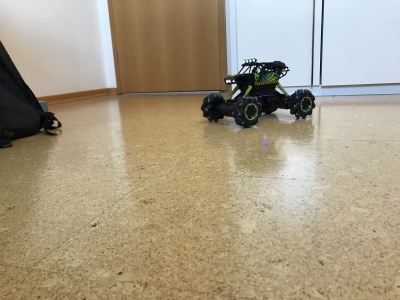remote control car: (196, 56, 319, 129)
